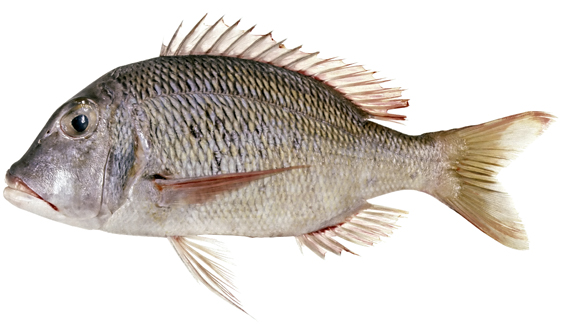fish: (3, 12, 559, 317)
